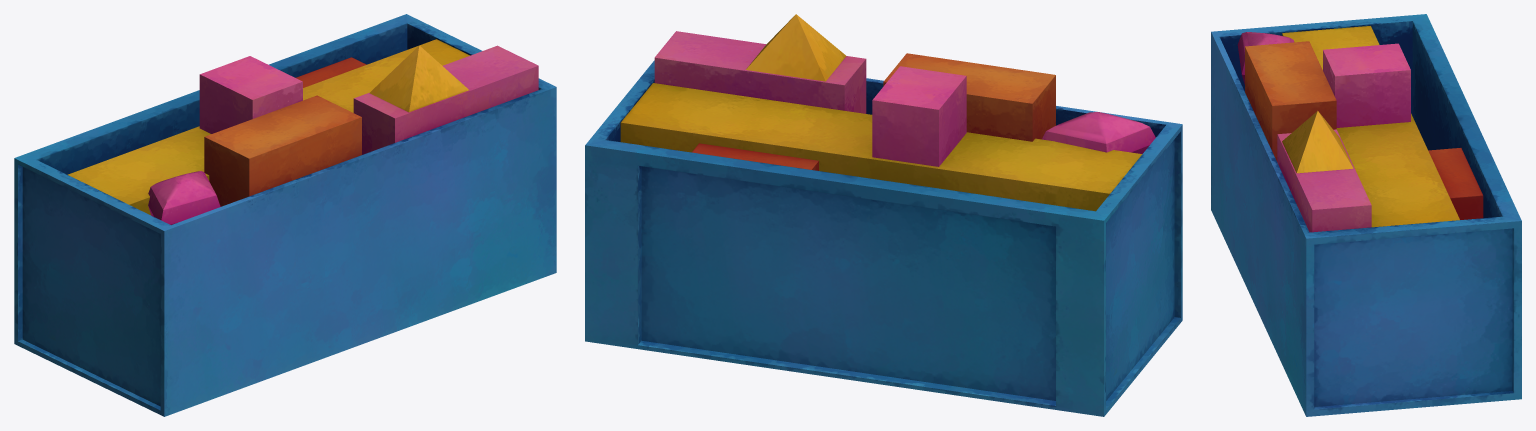
Rendered from 02_Lv1 Chest Box.fbx.
3 views of the same model, side by side, from view 1: azimuth 30°, elevation 25°; view 2: azimuth 150°, elevation 25°; view 3: azimuth 270°, elevation 25° (orthographic). The views are drawn at different scales.
Visible parts, largest first — view 1: Chest_Box; view 2: Chest_Box; view 3: Chest_Box.
Boxes of the visible parts, x1,y1,x2,y2 form: Chest_Box: [14, 14, 556, 416]; Chest_Box: [585, 14, 1182, 416]; Chest_Box: [1211, 14, 1521, 416].
Size of the model in its own units: 1597 by 812 by 934.
